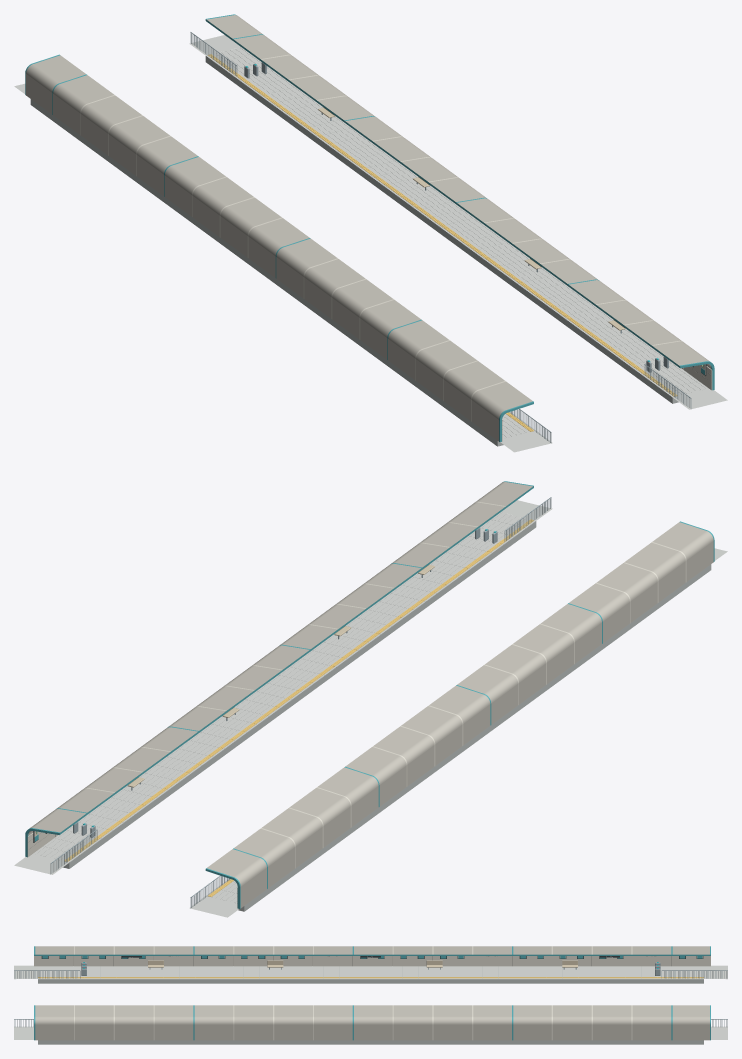
Rendered from station-A6.glb.
The picture shows the model from 3 angles, top to bottom: view 1: azimuth 30°, elevation 25°; view 2: azimuth 150°, elevation 25°; view 3: azimuth 270°, elevation 25°; orthographic projection. The views are drawn at different scales.
Parts seen in each view (by area): view 1: A6_platform_-1_roof, A6_platform_1_tile, A6_platform_1_roof, A6_platform_1_concrete, A6_platform_-1_concrete, A6_platform_1_yellow, A6_platform_-1_cladding, A6_platform_-1_tile, A6_platform_1_cladding; view 2: A6_platform_-1_roof, A6_platform_1_tile, A6_platform_1_roof, A6_platform_1_concrete, A6_platform_-1_concrete, A6_platform_1_yellow, A6_platform_-1_cladding, A6_platform_-1_tile, A6_platform_1_cladding, A6_platform_-1_accent; view 3: A6_platform_1_roof, A6_platform_-1_tile, A6_platform_-1_cladding, A6_platform_-1_roof, A6_platform_-1_concrete, A6_platform_1_concrete, A6_platform_-1_yellow, A6_platform_1_cladding, A6_platform_-1_accent, A6_platform_-1_sand, A6_platform_1_tile, A6_platform_-1_approach_rail_1_steel (+3 smaller).
Boxes of the visible parts, x1,y1,x2,y2 form: A6_platform_-1_roof: [26, 55, 532, 441]; A6_platform_1_tile: [189, 35, 727, 409]; A6_platform_1_roof: [206, 15, 711, 368]; A6_platform_1_concrete: [205, 56, 678, 403]; A6_platform_-1_concrete: [30, 99, 503, 446]; A6_platform_1_yellow: [208, 54, 704, 396]; A6_platform_-1_cladding: [80, 95, 505, 441]; A6_platform_-1_tile: [14, 83, 552, 452]; A6_platform_1_cladding: [260, 54, 712, 390]; A6_platform_-1_roof: [207, 522, 713, 907]; A6_platform_1_tile: [14, 500, 552, 874]; A6_platform_1_roof: [28, 482, 533, 835]; A6_platform_1_concrete: [63, 521, 536, 868]; A6_platform_-1_concrete: [238, 564, 711, 911]; A6_platform_1_yellow: [35, 519, 533, 861]; A6_platform_-1_cladding: [237, 542, 686, 907]; A6_platform_-1_tile: [189, 548, 727, 917]; A6_platform_1_cladding: [27, 501, 506, 856]; A6_platform_-1_accent: [205, 521, 714, 908]; A6_platform_1_roof: [35, 1005, 709, 1040]; A6_platform_-1_tile: [14, 965, 727, 979]; A6_platform_-1_cladding: [34, 946, 710, 966]; A6_platform_-1_roof: [35, 946, 709, 965]; A6_platform_-1_concrete: [38, 966, 703, 983]; A6_platform_1_concrete: [38, 1040, 703, 1044]; A6_platform_-1_yellow: [38, 977, 703, 978]; A6_platform_1_cladding: [74, 1005, 632, 1040]; A6_platform_-1_accent: [34, 946, 710, 958]; A6_platform_-1_sand: [148, 960, 577, 967]; A6_platform_1_tile: [14, 1026, 727, 1039]; A6_platform_-1_approach_rail_1_steel: [661, 970, 727, 978].
Size of the model in its own units: 22.2 by 3.8 by 89.64.
